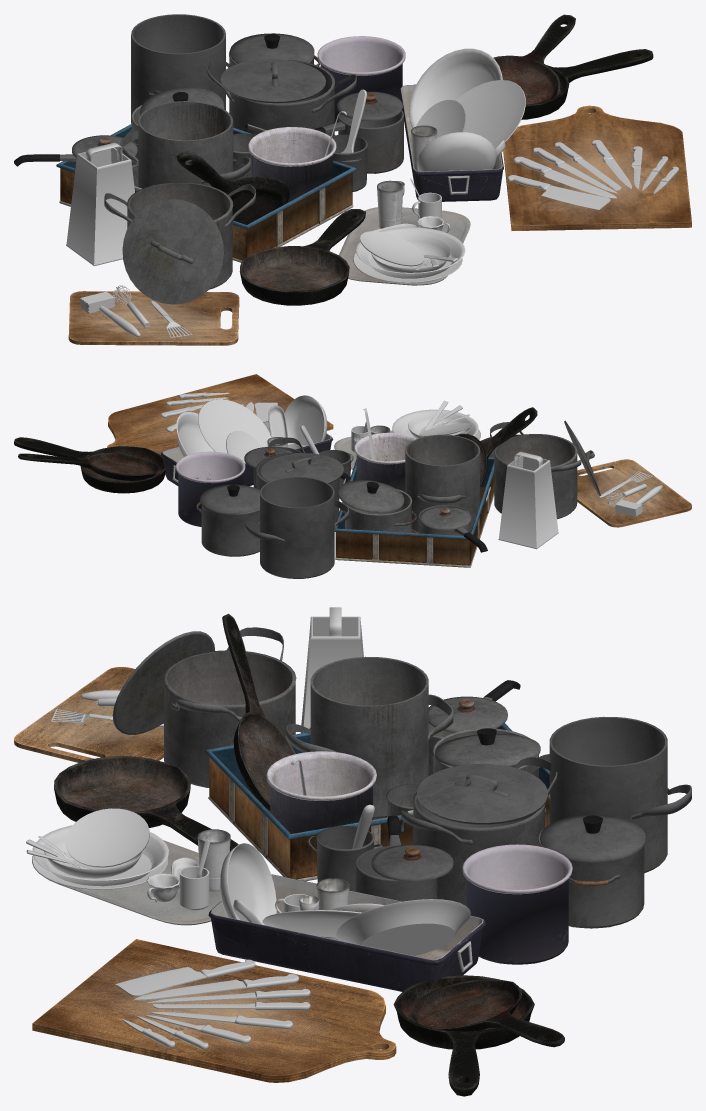
Rendered from Dishpile.fbx.
3 views of the same model, one above another, from view 1: azimuth 30°, elevation 25°; view 2: azimuth 150°, elevation 25°; view 3: azimuth 270°, elevation 25° (orthographic). The views are drawn at different scales.
Parts seen in each view (by area): view 1: SM_CuttingBoard, SM_Pot_03_Top.001, SM_Pot_02.001, SM_CuttingBoard_Small, SM_Pot_02, SM_Pan_02.001, SM_CheeseGrater, SM_DishTray_02, SM_Pot_05.001, SM_Pot_05, SM_Pot_03, SM_Pot_03.001 (+31 smaller); view 2: SM_Pot_02, SM_DishTray_02, SM_Pot_02.001, SM_CuttingBoard, SM_CheeseGrater, SM_CuttingBoard_Small, SM_Pot_03.001, SM_Pot_05, SM_Pan_02, SM_Pot_05.001, SM_Plate_01.001, SM_Pot_01 (+21 smaller); view 3: SM_CuttingBoard, SM_Pot_02.001, SM_Pot_02, SM_DishTray_01, SM_Pot_03.001, SM_Pot_05, SM_Pan_02.001, SM_DishTray_02, SM_Pot_05.001, SM_CuttingBoard_Small, SM_Pot_03_Top, SM_Pan_01 (+31 smaller).
Part boxes in pixels (x1,y1,x2,y2): SM_CuttingBoard: (503,105,691,230); SM_Pot_03_Top.001: (122,199,224,304); SM_Pot_02.001: (120,101,250,188); SM_CuttingBoard_Small: (68,291,239,345); SM_Pot_02: (131,14,225,123); SM_Pan_02.001: (239,209,365,305); SM_CheeseGrater: (66,142,134,265); SM_DishTray_02: (56,123,356,262); SM_Pot_05.001: (248,127,336,202); SM_Pot_05: (317,36,405,122); SM_Pot_03: (207,59,356,136); SM_Pot_03.001: (104,182,255,289); SM_Pot_02: (245,476,348,578); SM_DishTray_02: (334,457,494,567); SM_Pot_02.001: (405,434,480,532); SM_CuttingBoard: (107,374,333,454); SM_CheeseGrater: (498,451,558,549); SM_CuttingBoard_Small: (577,459,691,527); SM_Pot_03.001: (490,422,581,519); SM_Pot_05: (175,451,245,526); SM_Pan_02: (14,437,165,493); SM_Pot_05.001: (354,432,416,491); SM_Plate_01.001: (198,399,271,453); SM_Pot_01: (196,502,259,556); SM_CuttingBoard: (32,939,396,1082); SM_Pot_02.001: (286,656,453,818); SM_Pot_02: (525,716,691,873); SM_DishTray_01: (208,874,485,991); SM_Pot_03.001: (163,627,296,787); SM_Pot_05: (462,844,572,964); SM_Pan_02.001: (54,756,238,851); SM_DishTray_02: (205,723,549,881); SM_Pot_05.001: (266,751,376,833); SM_CuttingBoard_Small: (14,667,163,762); SM_Pot_03_Top: (416,764,547,824); SM_Pan_01: (408,979,564,1047).
Size of the model in its own units: 257 by 42.44 by 168.
